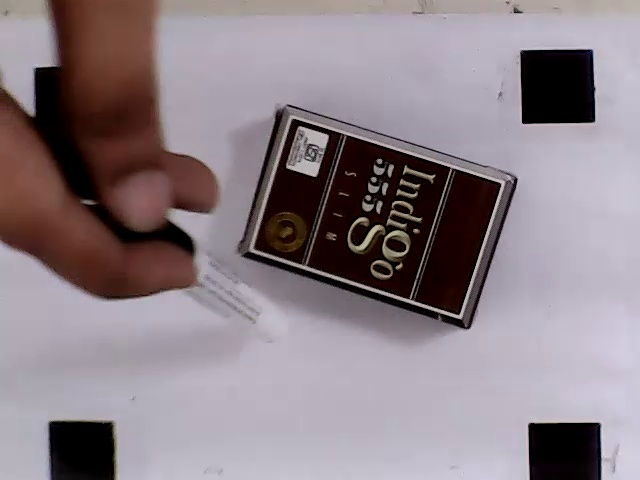BEX: (250, 118, 506, 316)
